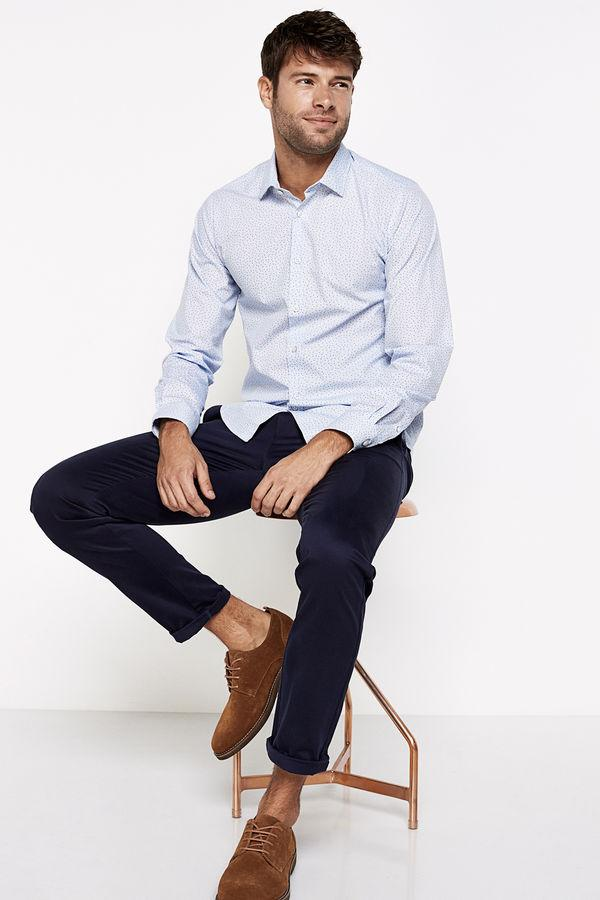teeshirt: (157, 148, 456, 463)
